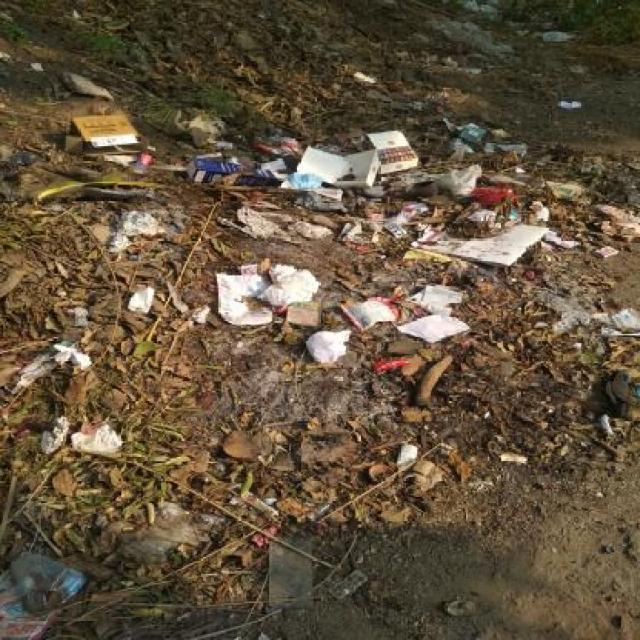garbage: (51, 285, 616, 470), (40, 102, 571, 259), (125, 9, 624, 173), (11, 414, 312, 627), (0, 150, 260, 353), (209, 290, 639, 403)
